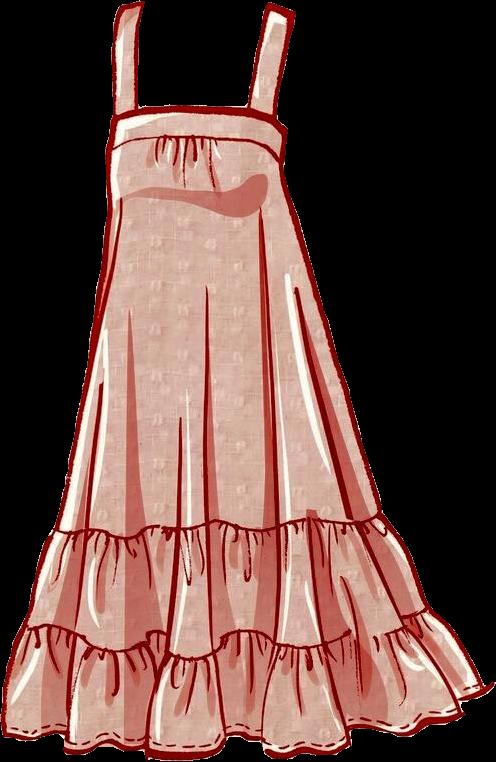Bodice: (105, 1, 295, 204)
Hemline: (1, 685, 492, 761)
Neckline: (129, 0, 272, 115), (111, 102, 289, 133), (104, 134, 286, 162)
Skirt: (1, 191, 495, 760)
Waistline: (20, 603, 433, 664), (50, 507, 385, 542)
